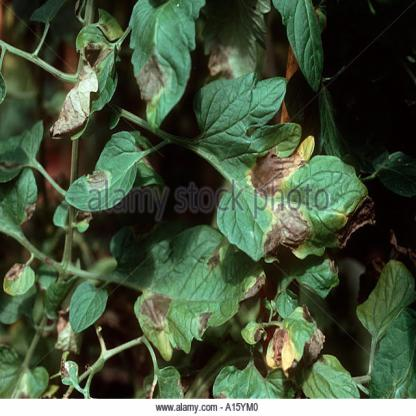tomato leaf late blight: (190, 74, 363, 268), (108, 221, 268, 354), (41, 23, 126, 135), (62, 129, 146, 224), (242, 290, 322, 379)
